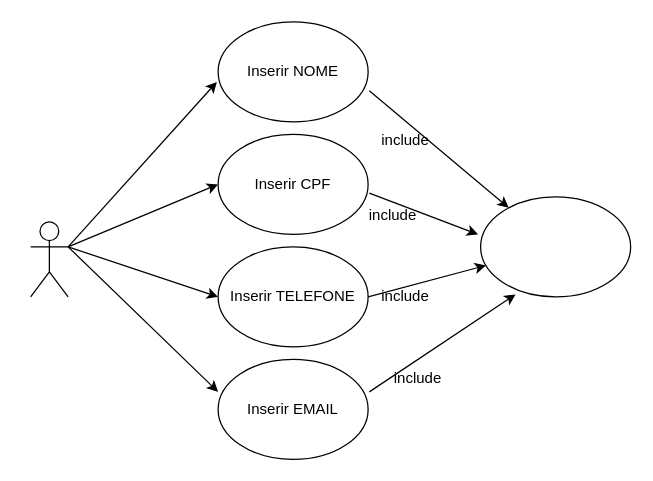
Image size: 653x481. Some labels were removed from this diagram. The box of each missing label's shape, as (x1, y1, x2, y2) in pixels:
Concluir Cadastro: (479, 196, 631, 297)
Usuário: (29, 221, 68, 297)
